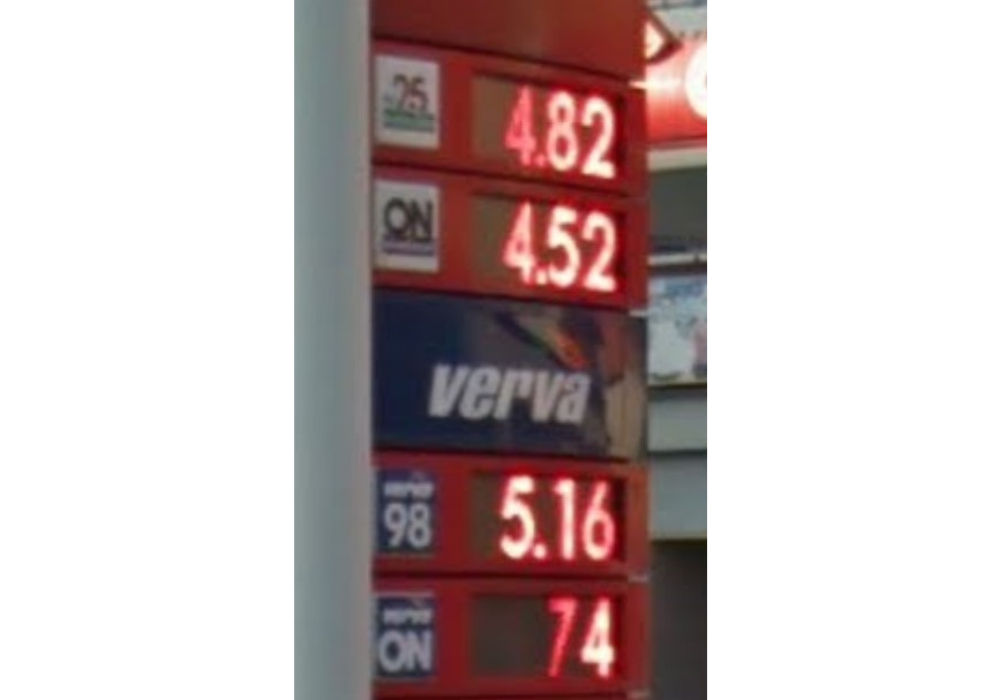ON: (368, 177, 446, 273), (372, 592, 440, 682)
PB98: (373, 468, 434, 555)
